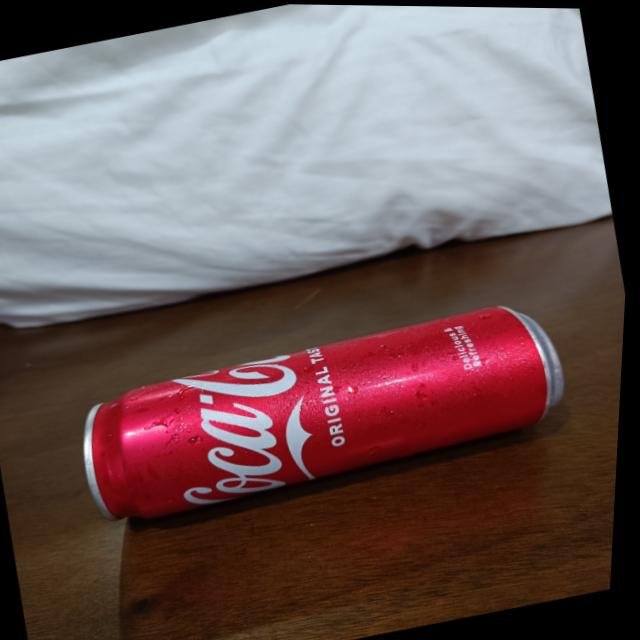coke: (71, 291, 582, 534)
